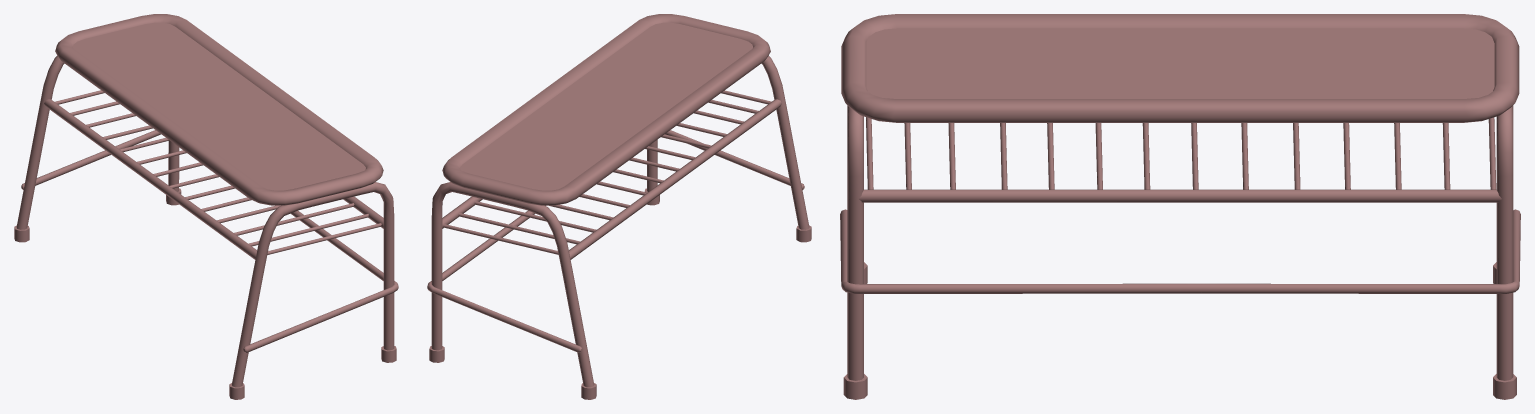
Rendered from Pupitre Doble.fbx.
3 views of the same model, side by side, from view 1: azimuth 30°, elevation 25°; view 2: azimuth 150°, elevation 25°; view 3: azimuth 270°, elevation 25° (orthographic). The views are drawn at different scales.
Visible parts, largest first — view 1: Pupitre_Doble; view 2: Pupitre_Doble; view 3: Pupitre_Doble.
Part boxes in pixels (bbox=[...]): Pupitre_Doble: bbox=[14, 14, 398, 399]; Pupitre_Doble: bbox=[427, 14, 811, 399]; Pupitre_Doble: bbox=[840, 14, 1520, 399].
Size of the model in its own units: 0.9198 by 1.01 by 2.15.
